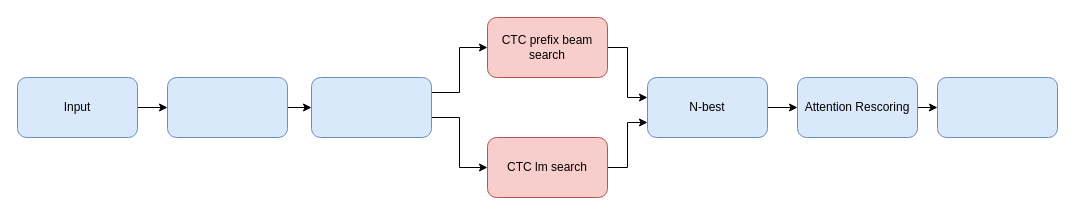
Some shapes in this 1075 by 215 pixel diagram are drawn without their labels. The centre of each missing label's shape, as x and y in pixels:
CTC likelihood: (371,107)
Output: (997,107)
Shared Encoder: (227,107)
